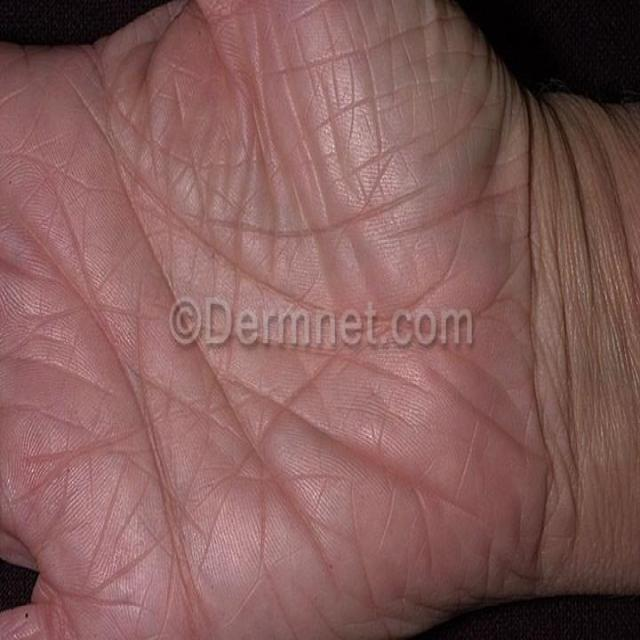liquenificacion 1: (0, 0, 624, 639)
liquenificacion 2: (0, 0, 624, 639)
